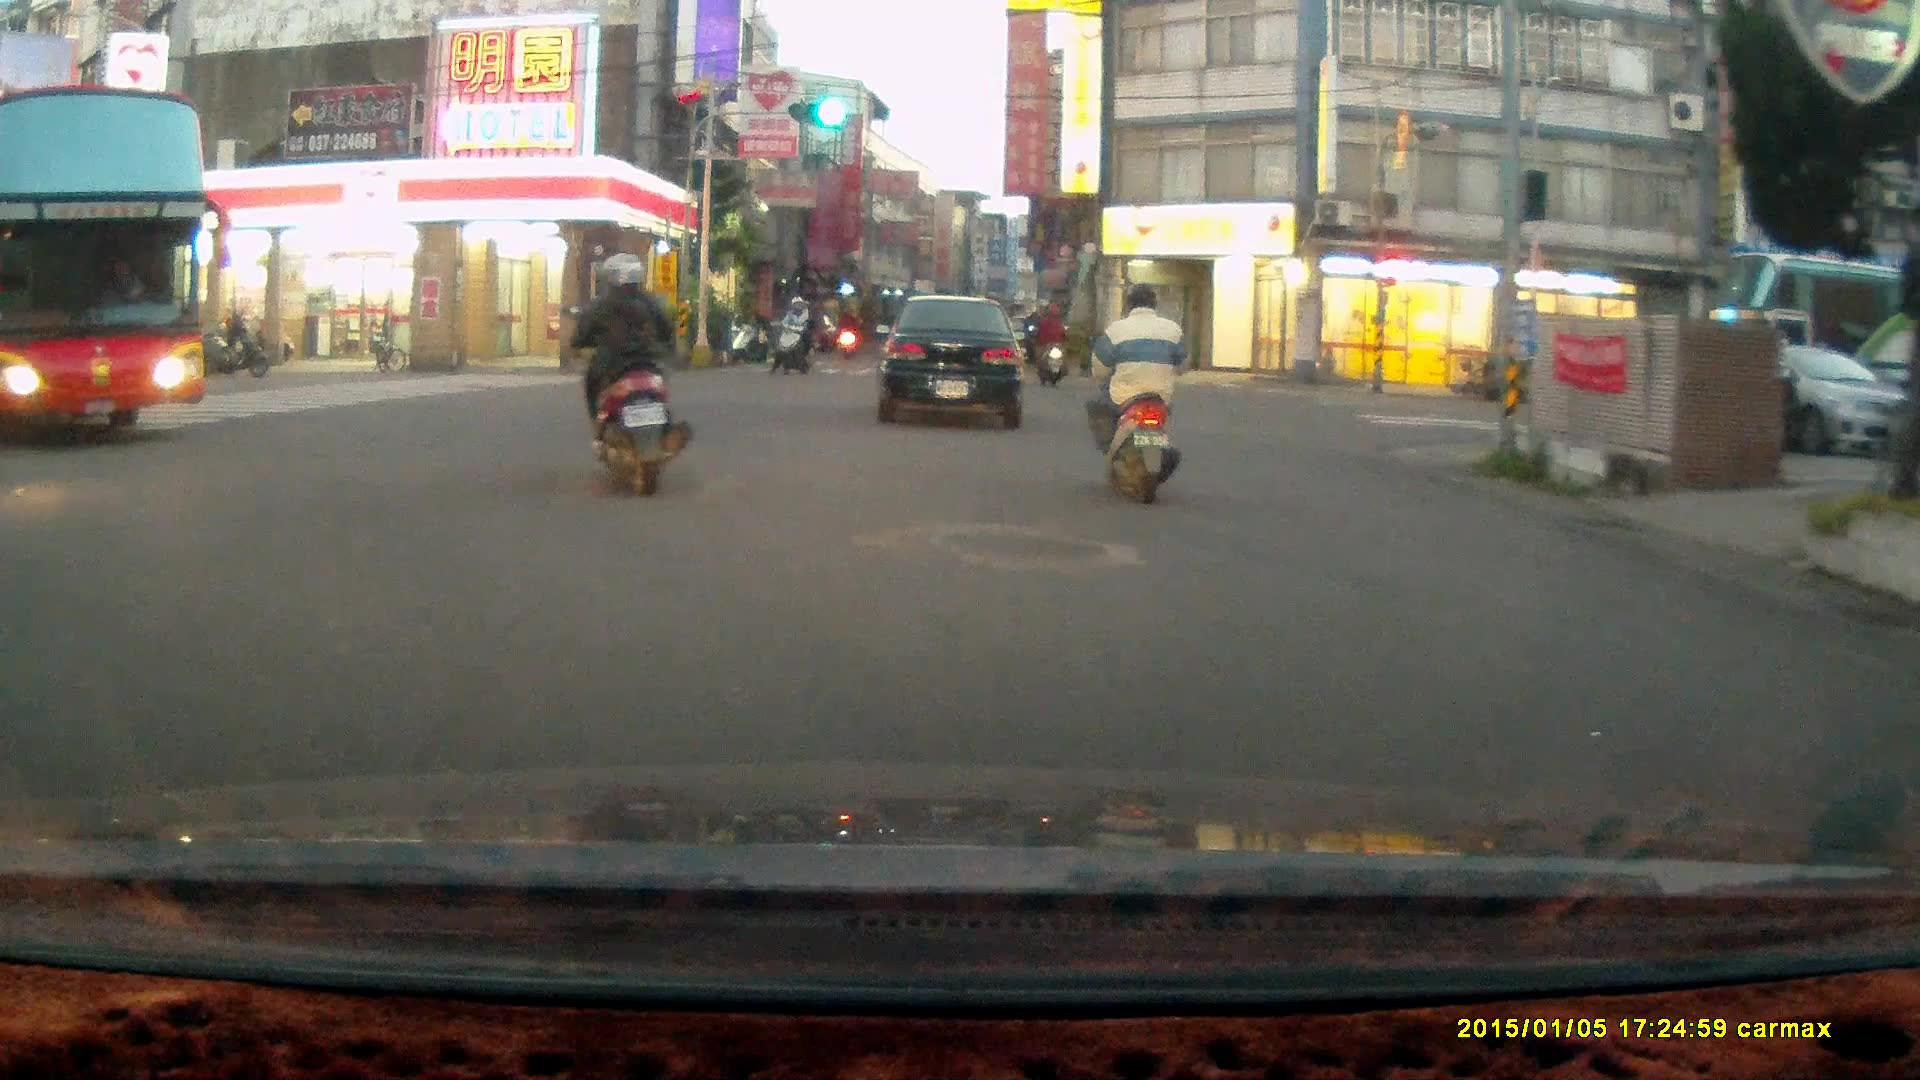rider: (563, 250, 695, 493), (1083, 281, 1198, 507), (771, 293, 817, 373), (1031, 297, 1070, 389)
vehicle: (1, 83, 208, 430), (1654, 337, 1916, 459), (883, 291, 1028, 430)
